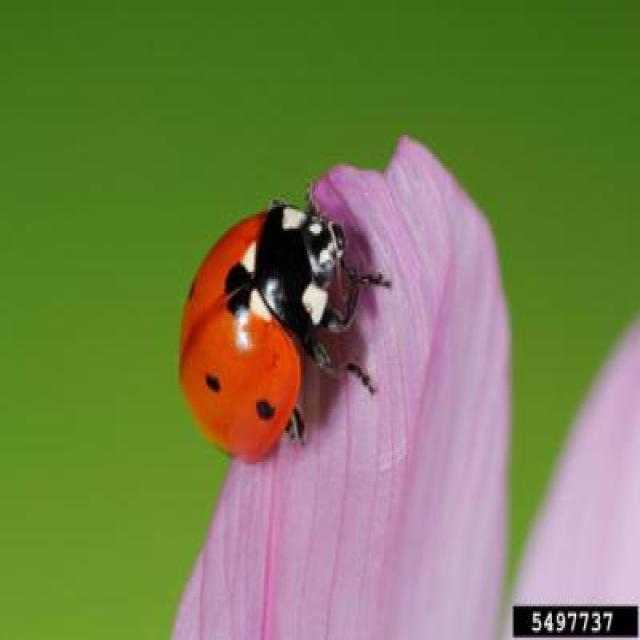body: (181, 197, 346, 460)
insect: (178, 180, 392, 462)
legs: (290, 266, 395, 453)
wings: (180, 195, 298, 462)
